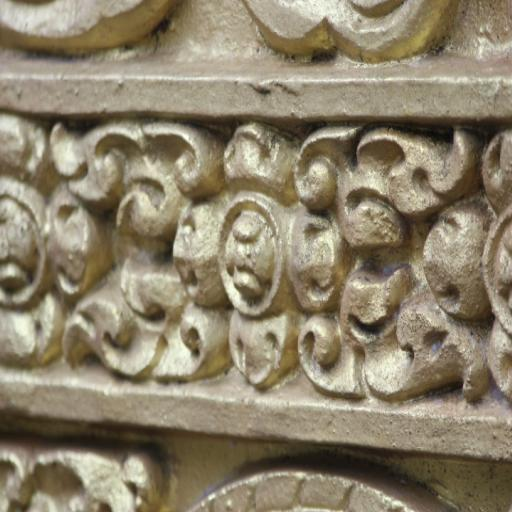hoa: (170, 120, 358, 394), (0, 137, 98, 362)
